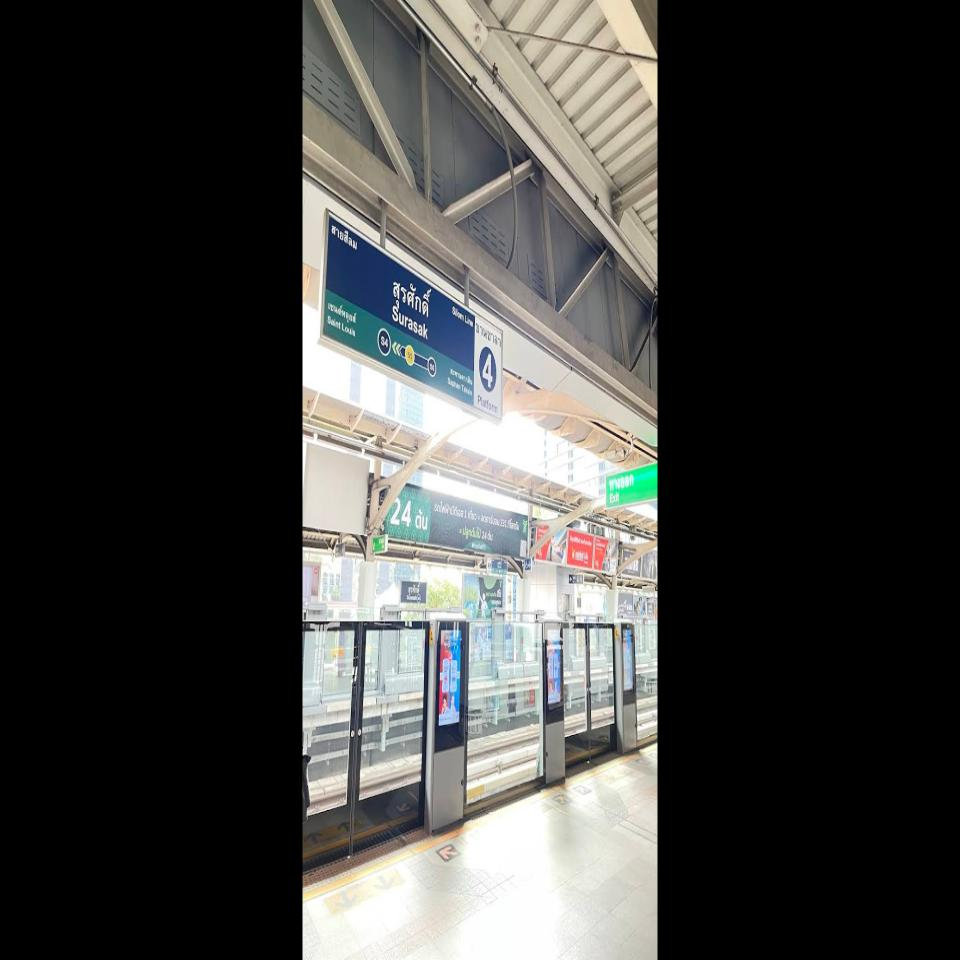signage: (377, 243, 437, 394), (400, 580, 427, 604)
